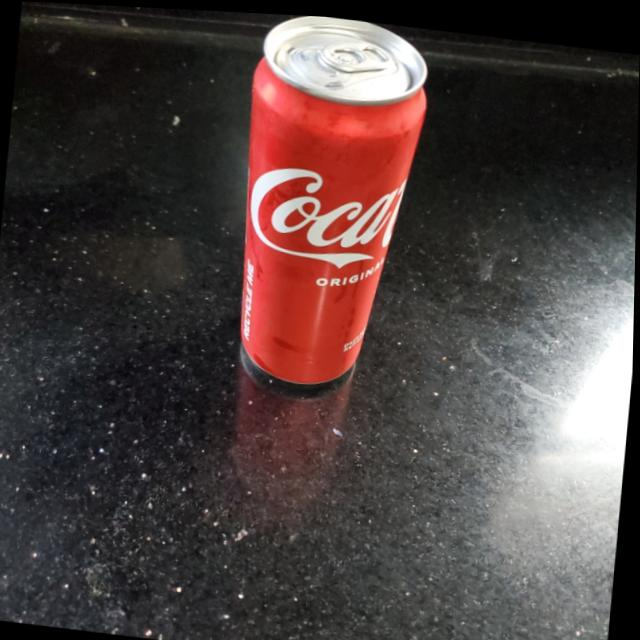coke: (230, 10, 432, 387)
